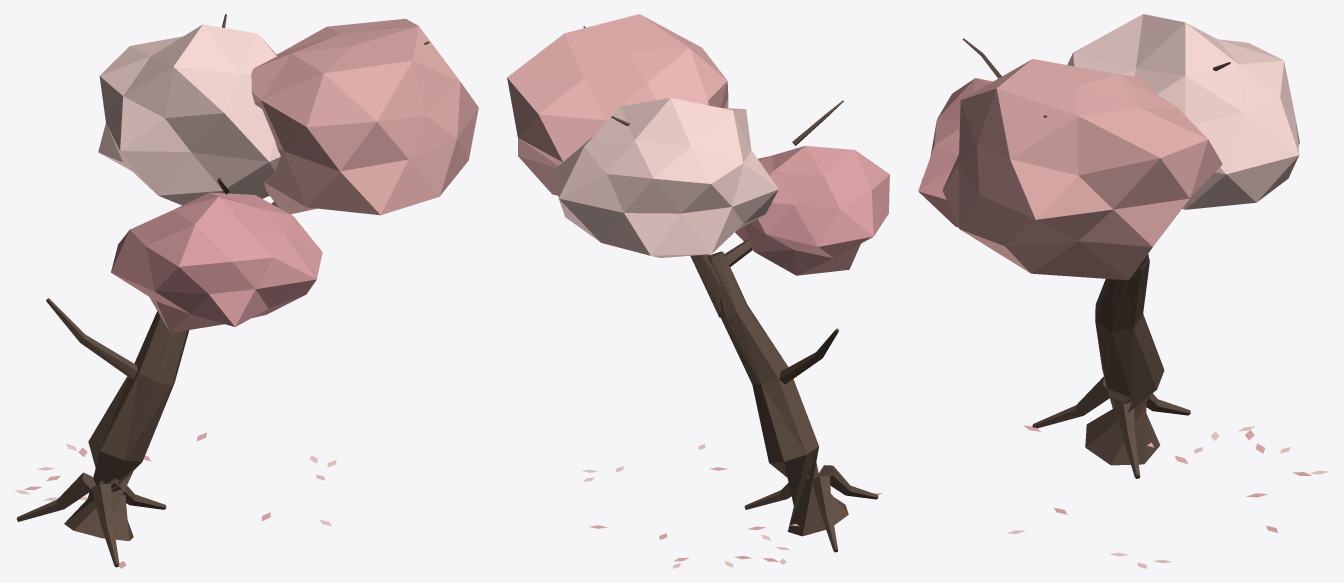
The model's file is cherry_tree_b.glb.
3 views of the same model, side by side, from view 1: azimuth 30°, elevation 25°; view 2: azimuth 150°, elevation 25°; view 3: azimuth 270°, elevation 25° (orthographic). The views are drawn at different scales.
Visible parts, largest first — view 1: cherry_tree_b; view 2: cherry_tree_b; view 3: cherry_tree_b.
Part boxes in pixels (left/top/right/bottom): cherry_tree_b: left=14, top=14, right=478, bottom=568; cherry_tree_b: left=507, top=14, right=889, bottom=568; cherry_tree_b: left=918, top=14, right=1328, bottom=568.
Size of the model in its own units: 4.56 by 5.16 by 3.85.
